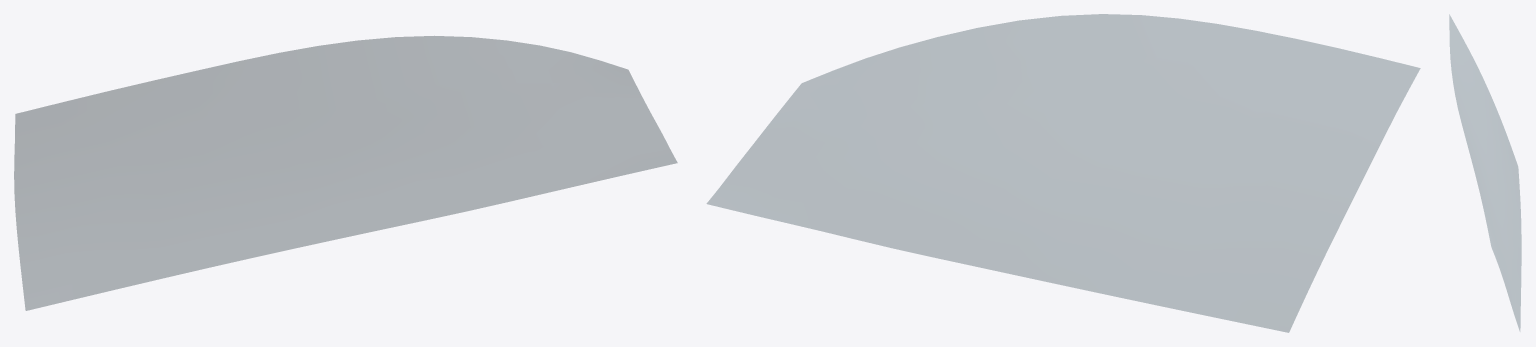
3 views of the same model, side by side, from view 1: azimuth 30°, elevation 25°; view 2: azimuth 150°, elevation 25°; view 3: azimuth 270°, elevation 25° (orthographic). The views are drawn at different scales.
Parts seen in each view (by area): view 1: SM_DodgeChargerCop_Door_FL_Glass_Int2; view 2: SM_DodgeChargerCop_Door_FL_Glass_Int2; view 3: SM_DodgeChargerCop_Door_FL_Glass_Int2.
Part boxes in pixels (x1,y1,x2,y2): SM_DodgeChargerCop_Door_FL_Glass_Int2: [14, 36, 677, 310]; SM_DodgeChargerCop_Door_FL_Glass_Int2: [707, 14, 1420, 332]; SM_DodgeChargerCop_Door_FL_Glass_Int2: [1449, 14, 1521, 330].
Bounding box in the file's own units: 0.9339 × 0.3408 × 0.1591.
